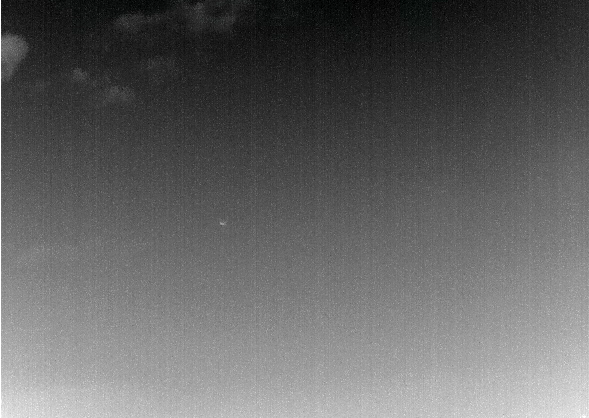dim target: (217, 219, 227, 228)
